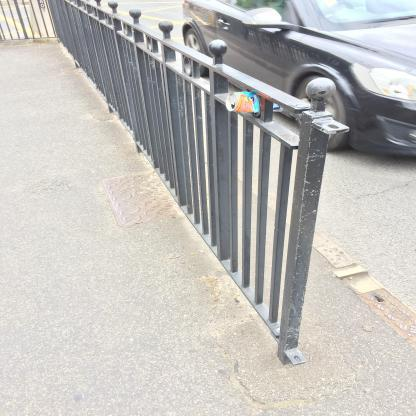metal: (227, 92, 287, 114)
